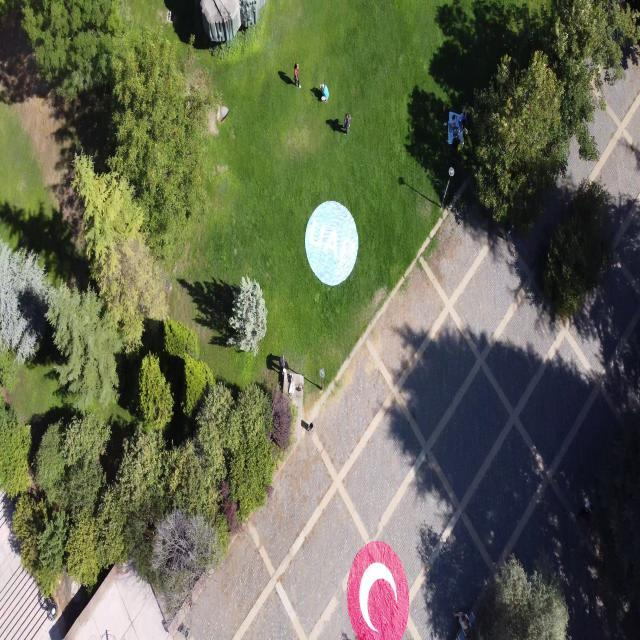vehicle: (347, 541, 409, 640), (305, 200, 358, 286), (452, 608, 469, 628), (577, 499, 591, 521), (320, 84, 330, 102), (344, 113, 352, 135), (294, 63, 300, 88), (279, 354, 286, 374), (453, 134, 459, 156), (450, 114, 458, 130), (459, 111, 466, 128), (452, 126, 458, 139)
